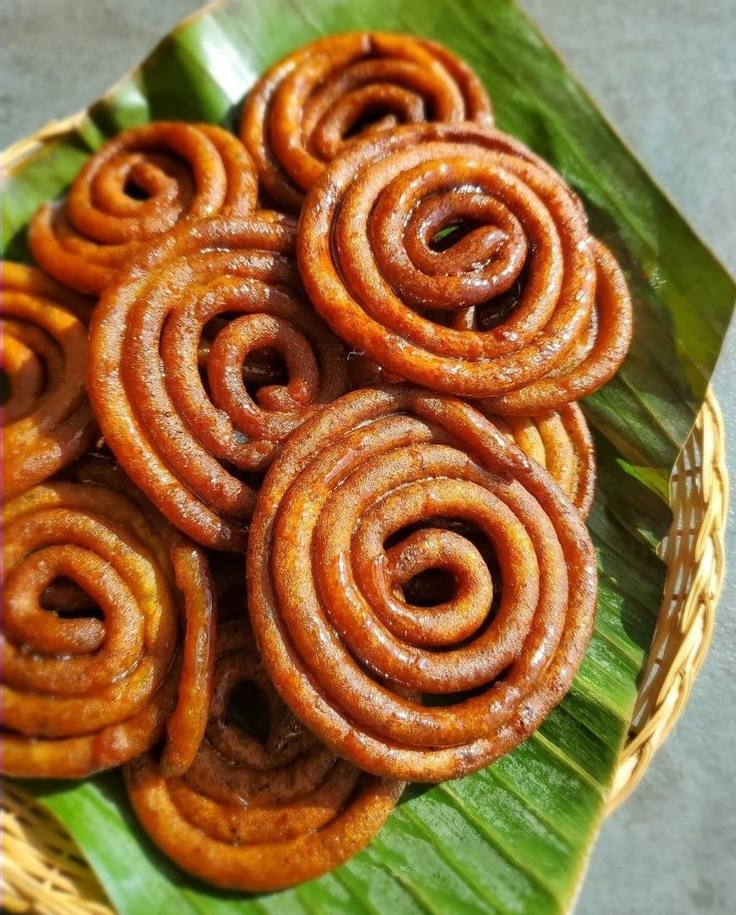pani_walalu: (246, 386, 600, 785), (93, 213, 372, 543), (301, 119, 604, 382), (1, 482, 214, 782), (240, 30, 495, 199), (29, 113, 235, 283)
